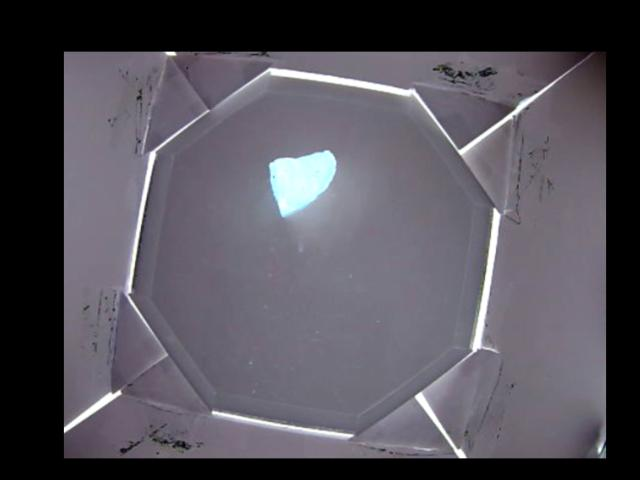Brisk: (268, 150, 336, 213)
